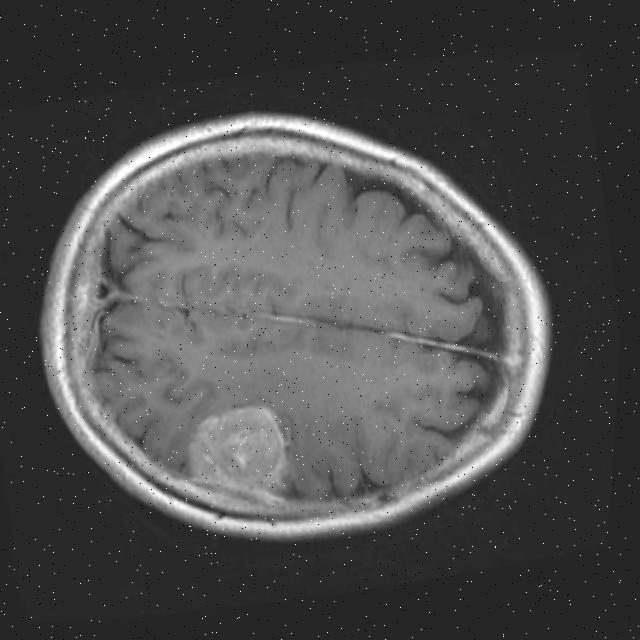Meningioma: (178, 395, 300, 515)
